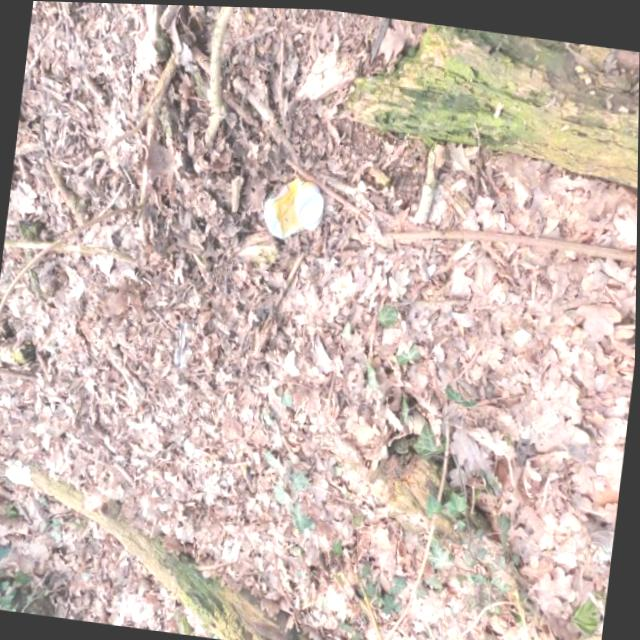Can-Metal: (256, 168, 328, 244)
Paper: (3, 455, 34, 486)
Plastic: (172, 316, 197, 372)
